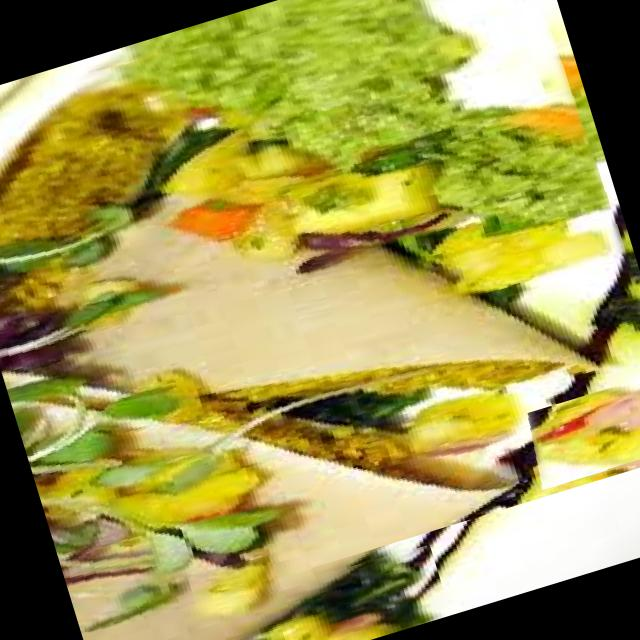Organic: (0, 0, 640, 636), (219, 537, 451, 640), (519, 369, 640, 488), (186, 538, 316, 614)
